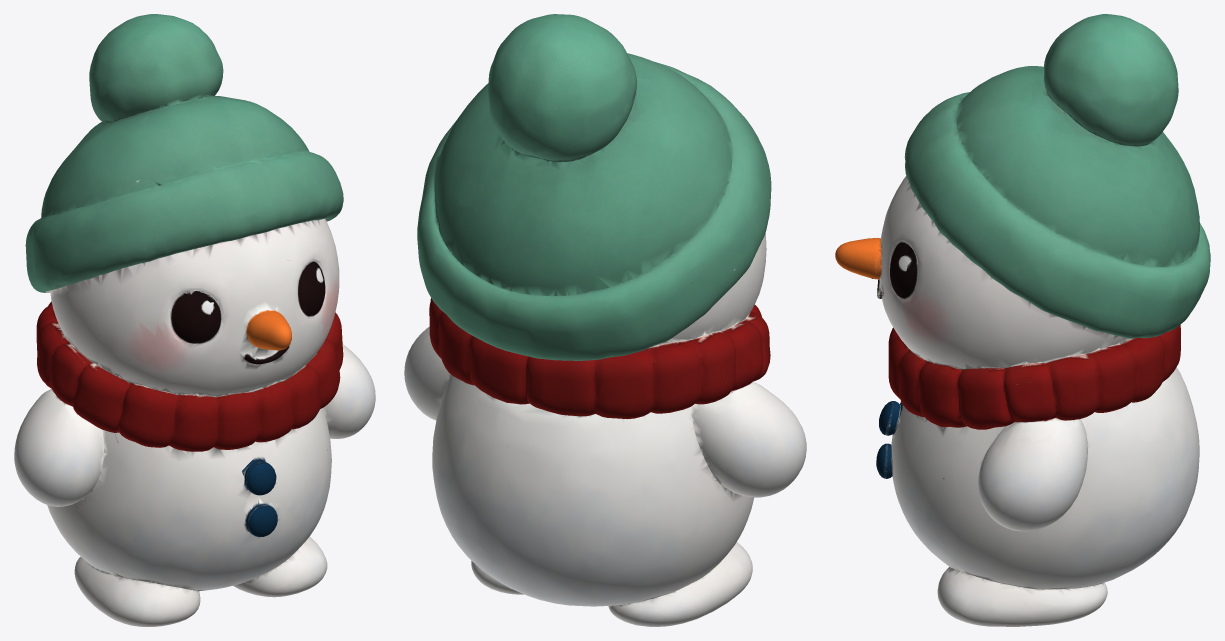
Rendered from Snowy.fbx.
3 views of the same model, side by side, from view 1: azimuth 30°, elevation 25°; view 2: azimuth 150°, elevation 25°; view 3: azimuth 270°, elevation 25° (orthographic). The views are drawn at different scales.
Parts seen in each view (by area): view 1: Mesh_0; view 2: Mesh_0; view 3: Mesh_0.
Part boxes in pixels (x1,y1,x2,y2): Mesh_0: [14, 14, 375, 626]; Mesh_0: [404, 14, 806, 626]; Mesh_0: [835, 14, 1210, 626].
Size of the model in its own units: 132 by 194 by 118.
Materials: 1 (1 with a texture image).
